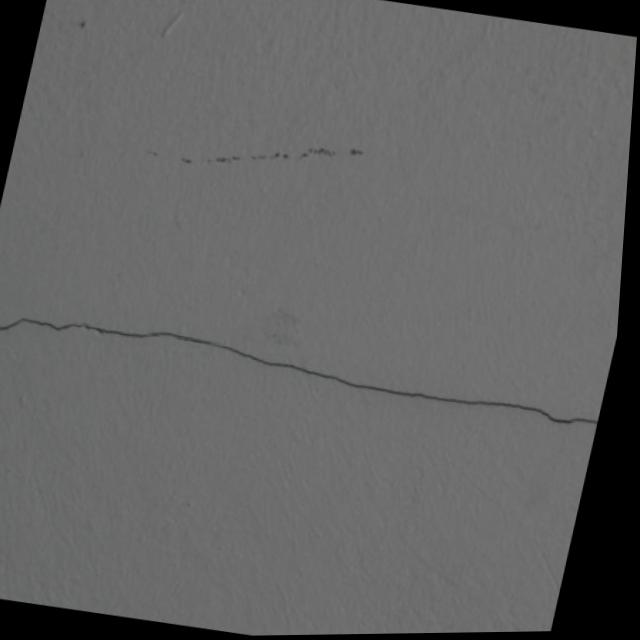Crack: (0, 289, 612, 457)
